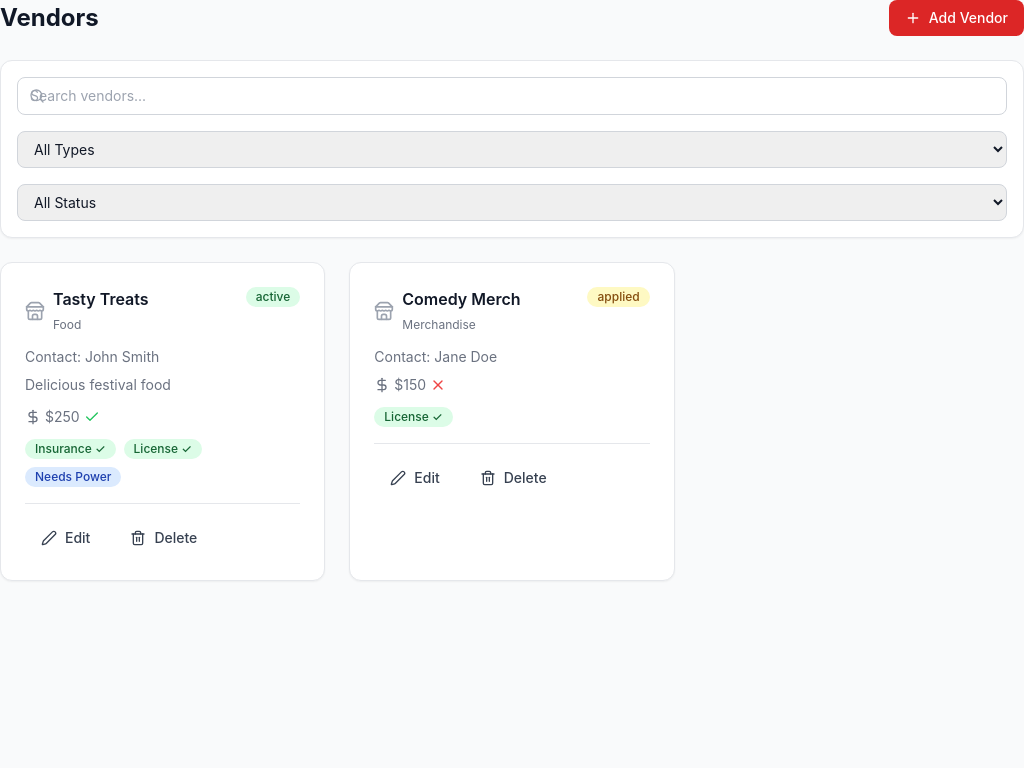
Test: Vendors › add vendor modal › opens modal when clicking Add Vendor
Click the button "Add Vendor".
click(956, 18)  # box [889, 0, 1023, 36]
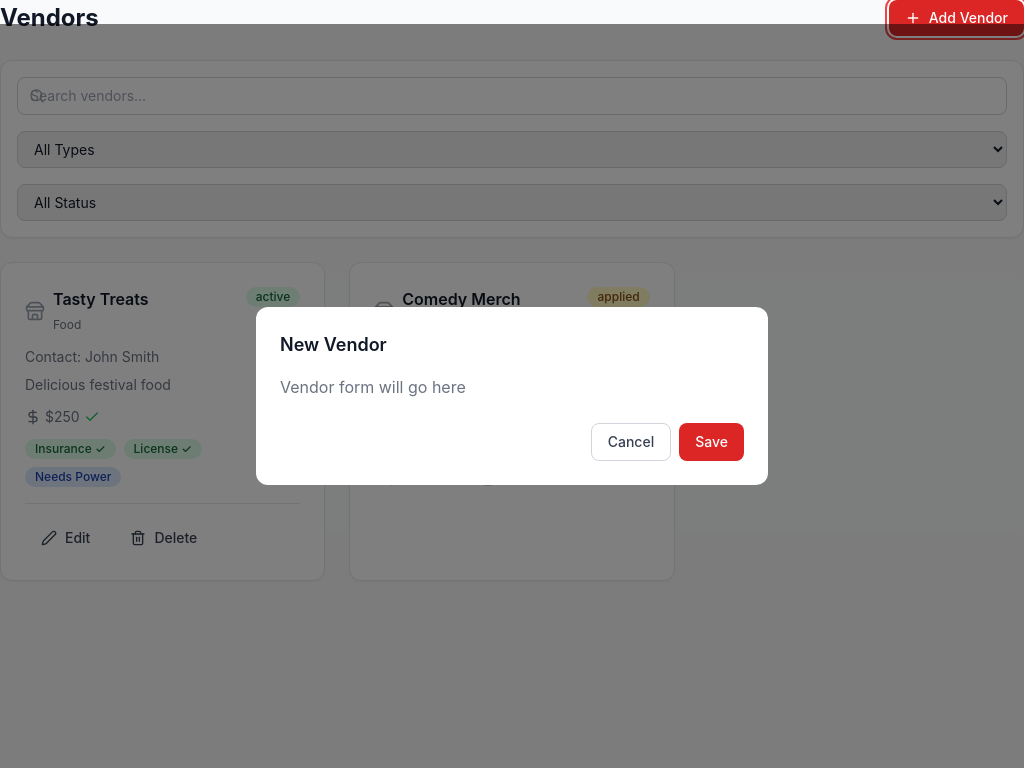
Now the heading "New Vendor" is shown, box [280, 334, 387, 355]
